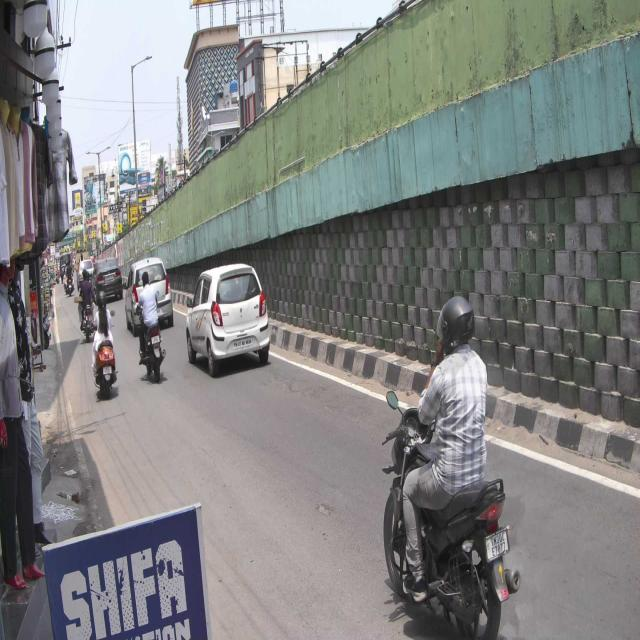single_rider: (383, 294, 522, 640)
